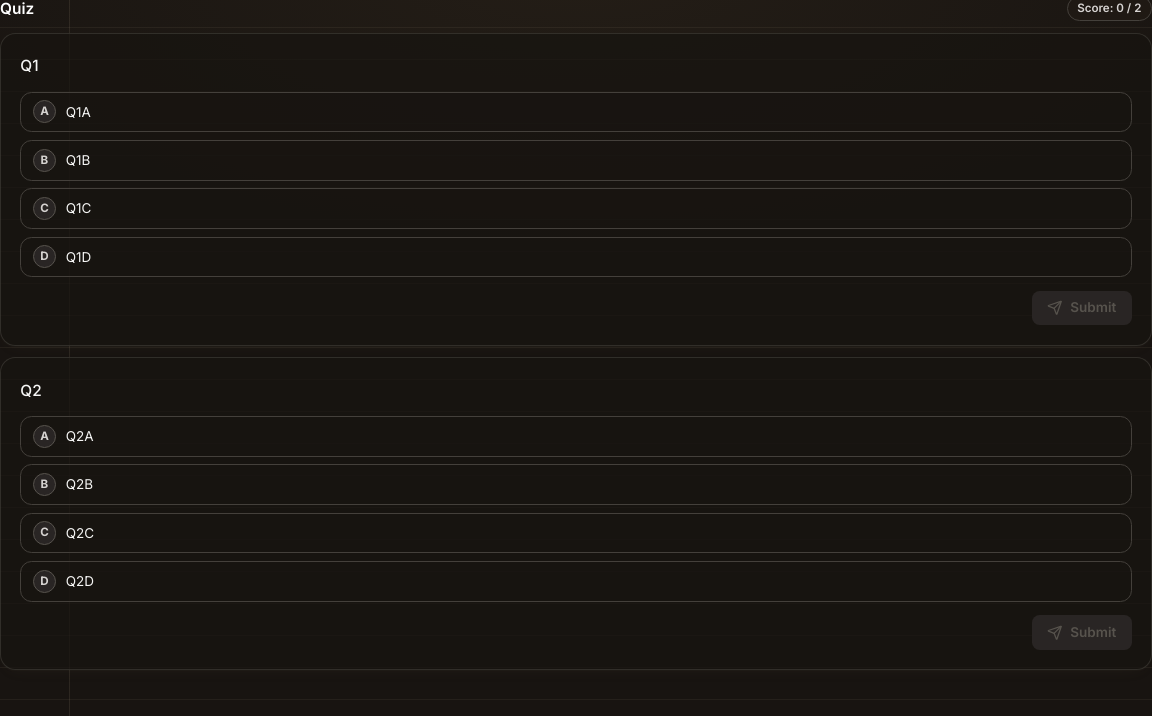
Scenario: QuizSection › shows a summary with a Retry button when wrong answers exist
The image size is (1152, 716).
Click the radio button labelled "Q1A": (44, 112) [20,92,1132,132]
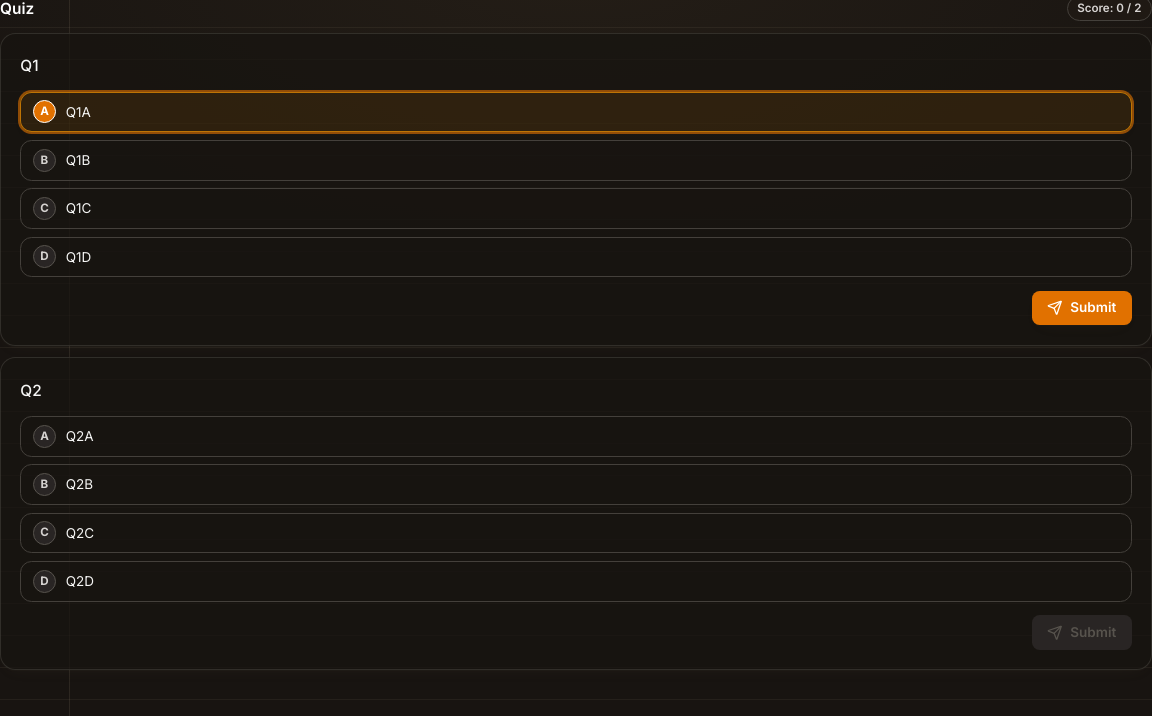
Click the 1st button "Submit": (1082, 308) [1032,291,1132,325]
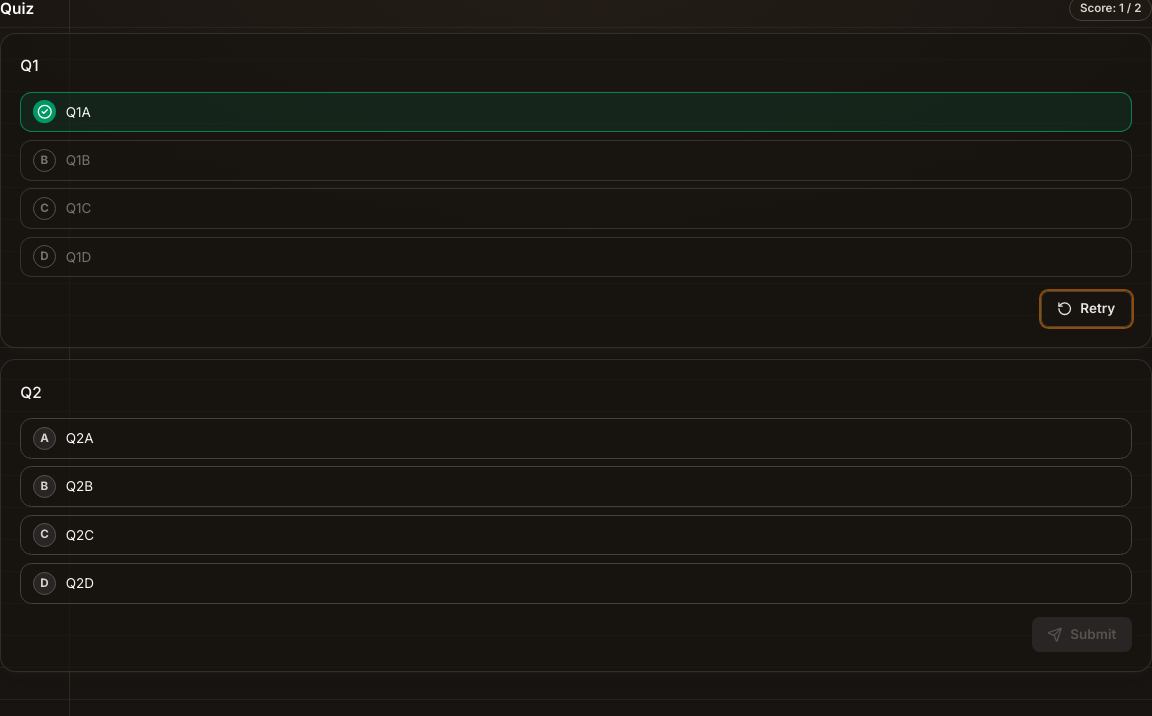
Click the radio button labelled "Q2A": (44, 438) [20,418,1132,459]
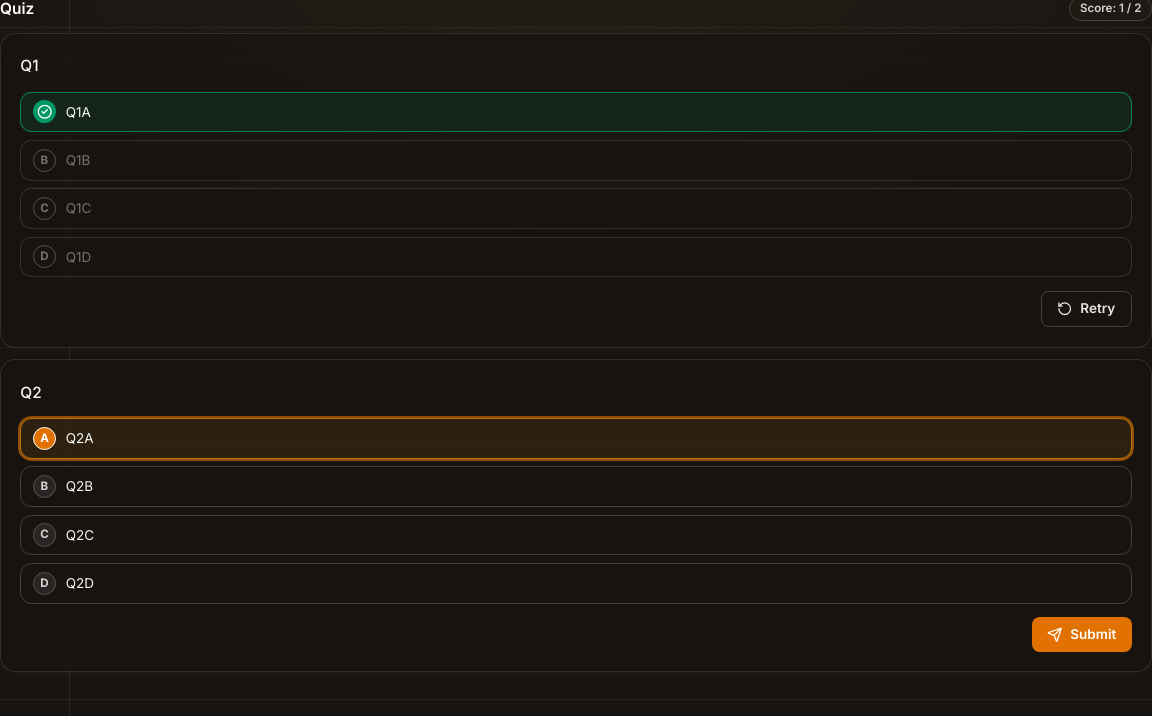
Click the button "Submit": (1082, 635) [1032,617,1132,652]
(page scrolled)
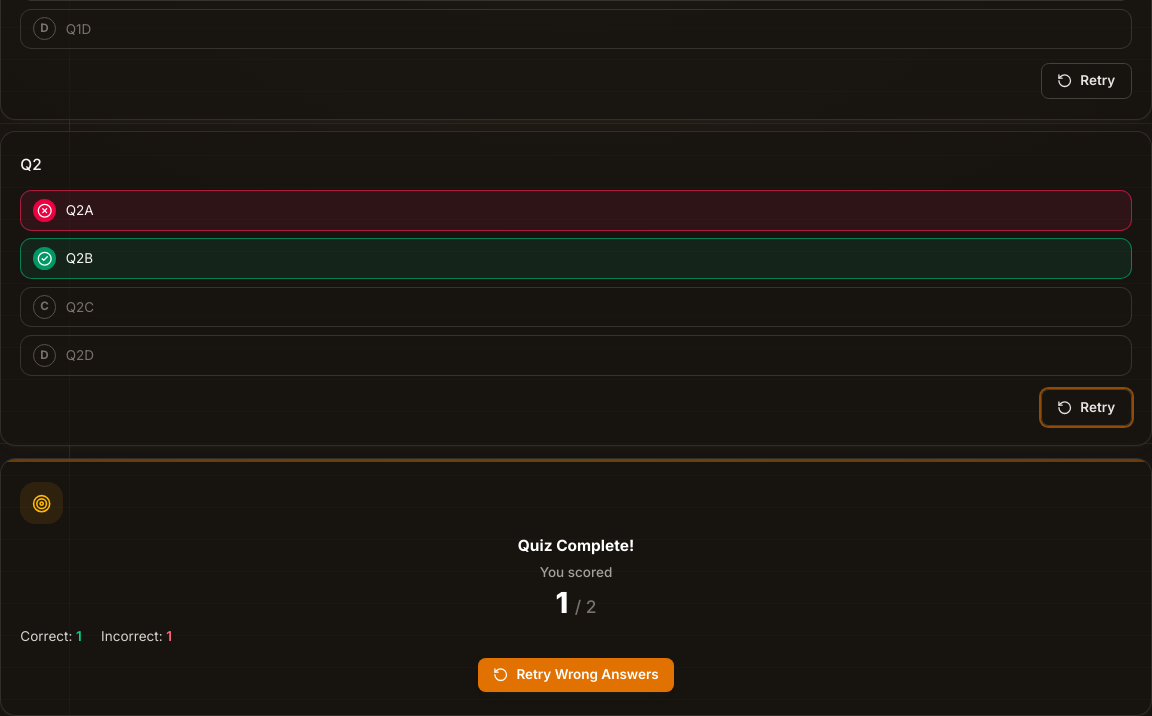
Expected: the heading "Quiz Complete!" is shown, [518,536,634,555]
Expected: the button "Retry Wrong Answers" is shown, [478,658,674,692]
